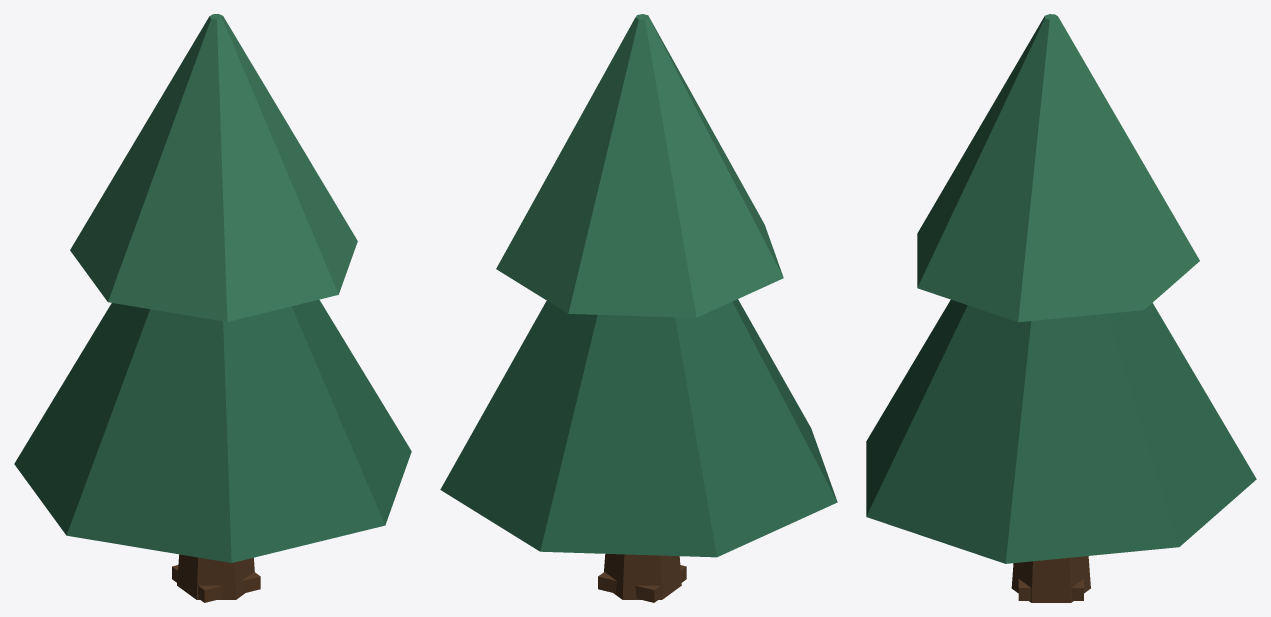
File: pine_tree.glb
The picture shows the model from 3 angles, left to right: view 1: azimuth 30°, elevation 25°; view 2: azimuth 150°, elevation 25°; view 3: azimuth 270°, elevation 25°; orthographic projection.
Parts seen in each view (by area): view 1: pine_tree; view 2: pine_tree; view 3: pine_tree.
Boxes of the visible parts, bbox=[...] form: pine_tree: bbox=[14, 14, 411, 602]; pine_tree: bbox=[440, 14, 837, 602]; pine_tree: bbox=[866, 14, 1256, 602].
Bounding box in the file's own units: 2.83 × 4.45 × 2.76.
